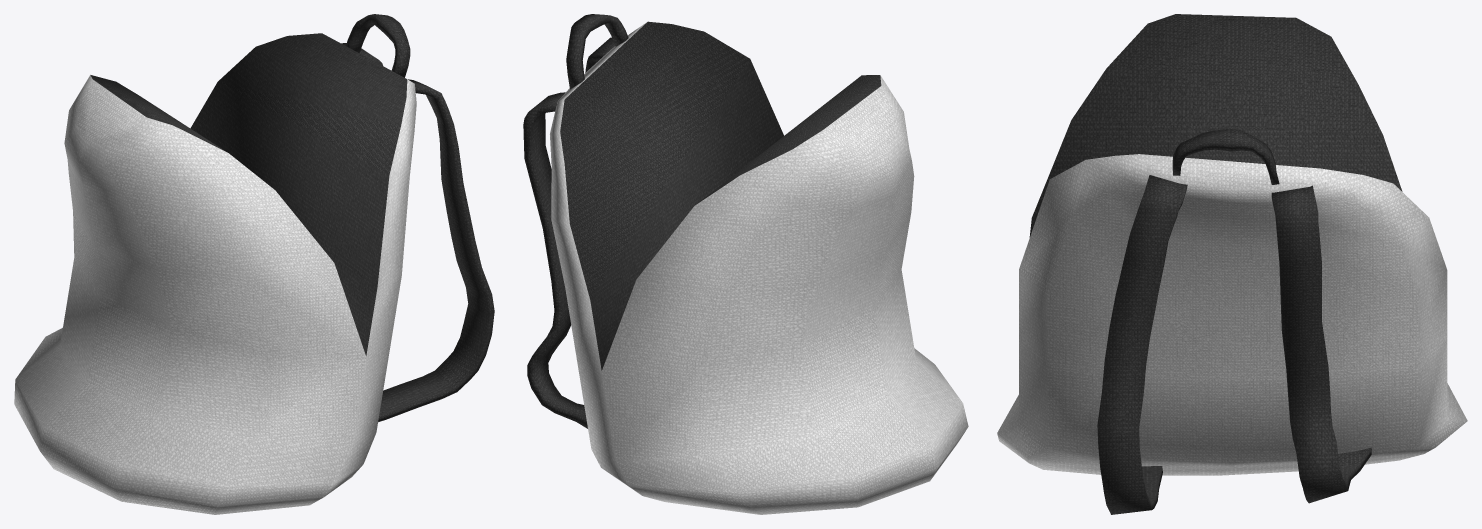
File: Bag.FBX
3 renders of one model, left to right at view 1: azimuth 30°, elevation 25°; view 2: azimuth 150°, elevation 25°; view 3: azimuth 270°, elevation 25°, orthographic. The views are drawn at different scales.
Parts seen in each view (by area): view 1: mesh_553017598; view 2: mesh_553017598; view 3: mesh_553017598.
Boxes of the visible parts, box(x1,y1,x2,y2) form: mesh_553017598: box(14, 14, 494, 514); mesh_553017598: box(523, 14, 968, 514); mesh_553017598: box(997, 14, 1467, 514).
Size of the model in its own units: 37.62 by 34.41 by 35.7.
